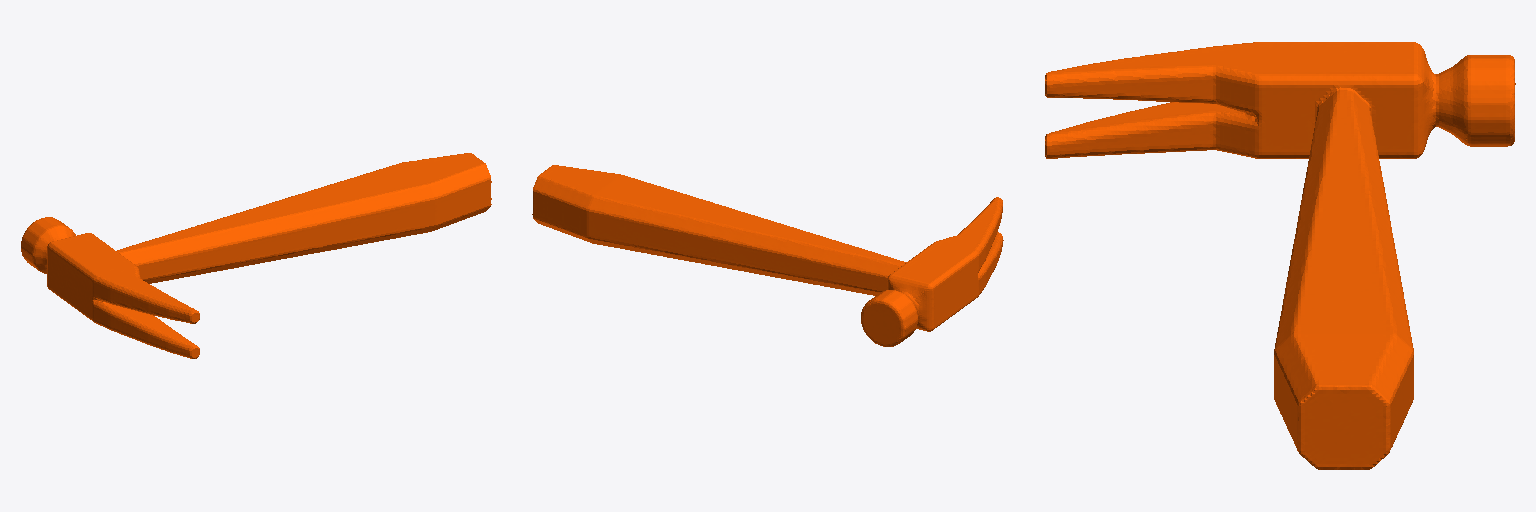
URDF robot description (hammer):
<?xml version="1.0" ?>
<robot name="hammer">
   <material name="obj_color">
      <color rgba="1.0 0.423529411765 0.0392156862745 1.0"/>
   </material>
   <link name="top">
      <inertial>
         <origin rpy="7.976858938144943e-05 0.001166848176206204 0.00122807918414027" xyz="-0.009402508734551545 0.01400910261141951 -4.704618371757662e-06"/>
         <mass value="0.2502288765937387"/>
         <inertia ixx="8.108656222958803e-05" ixy="-3.782861476760107e-05" ixz="-1.55280533302766e-08" iyy="0.001165530203763934" iyz="-3.975296341810223e-09" izz="0.001228079183734401"/>
      </inertial>
      <visual>
         <origin rpy="0 0 0" xyz="0 0 0"/>
         <geometry>
            <mesh filename="top_watertight_tiny.stl" scale="1 1 1"/>
         </geometry>
         <material name="obj_color"/>
      </visual>
      <collision>
         <origin rpy="0 0 0" xyz="0 0 0"/>
         <geometry>
            <mesh filename="top_watertight_tiny.obj" scale="1 1 1"/>
         </geometry>
      </collision>
   </link>
   <link name="bottom">
      <inertial>
         <origin rpy="1.633333333194242e-08 1.633333333194243e-08 1.633333333357667e-08" xyz="0.3464080000000008 0.3464080000000008 0.3464080000000008"/>
         <mass value="0.0009800000000000017"/>
         <inertia ixx="1.633333333248717e-08" ixy="5.447480642029219e-19" ixz="5.447480642029219e-19" iyy="1.633333333248717e-08" iyz="5.447480642029219e-19" izz="1.633333333248717e-08"/>
      </inertial>
      <visual>
         <origin rpy="0 0 0" xyz="0 0 0"/>
         <geometry>
            <mesh filename="bottom_watertight_tiny.stl" scale="1 1 1"/>
         </geometry>
         <material name="obj_color"/>
      </visual>
   </link>
   <link name="world"/>
   <joint name="world_to_base" type="fixed">
      <origin xyz="0 0 0"/>
      <axis xyz="0 0 0"/>
      <parent link="world"/>
      <child link="bottom"/>
   </joint>
   <joint name="rotation" type="revolute">
      <origin xyz="0 0 0"/>
      <axis xyz="0 0 -1"/>
      <parent link="bottom"/>
      <child link="top"/>
      <dynamics damping="1.0" friction="1.0"/>
      <limit effort="0.1" velocity="0.1" lower="0" upper="0.001"/>
   </joint>
</robot>

--- Facts derived from the render (not from the file) ---
Views: 3 orthographic renders of the robot side by side, from view 1: azimuth 30°, elevation 25°; view 2: azimuth 150°, elevation 25°; view 3: azimuth 270°, elevation 25°.
Model hammer with 3 links and 2 joints (1 revolute, 1 fixed), rooted at world, posed every joint at zero.
Visible links, largest first — view 1: top; view 2: top; view 3: top.
Boxes of the visible links, x1,y1,x2,y2 form: top: (21,153,491,358); top: (532,165,1003,346); top: (1045,42,1515,469).
Bounding box of the posed robot: 0.205 × 0.1172 × 0.0232 m (x, y, z).
1 mesh visuals loaded from 2 distinct referenced files (1 binary STL); not drawn: 1 (reference not matched to a file when rendering).
